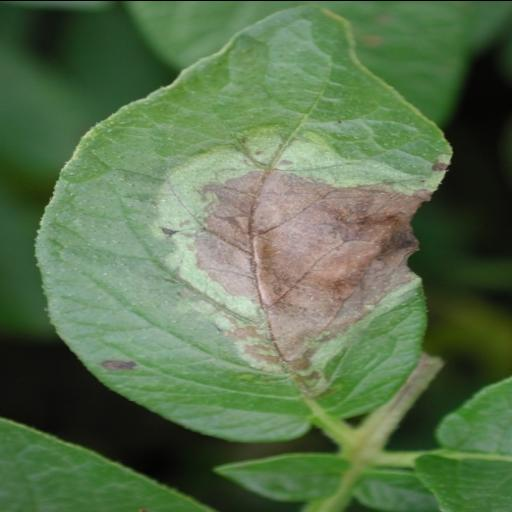Late Blight: (34, 1, 470, 447)
